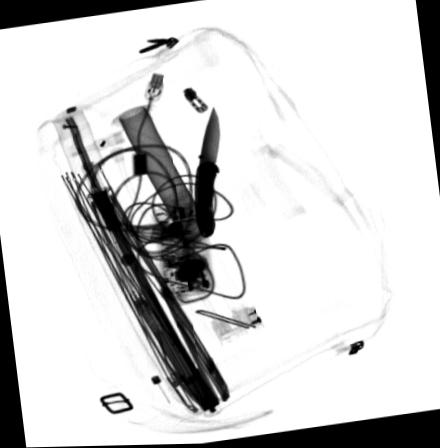Knife: (192, 106, 220, 240)
